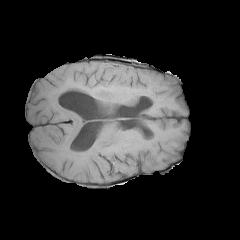glioma: (50, 64, 156, 104)
